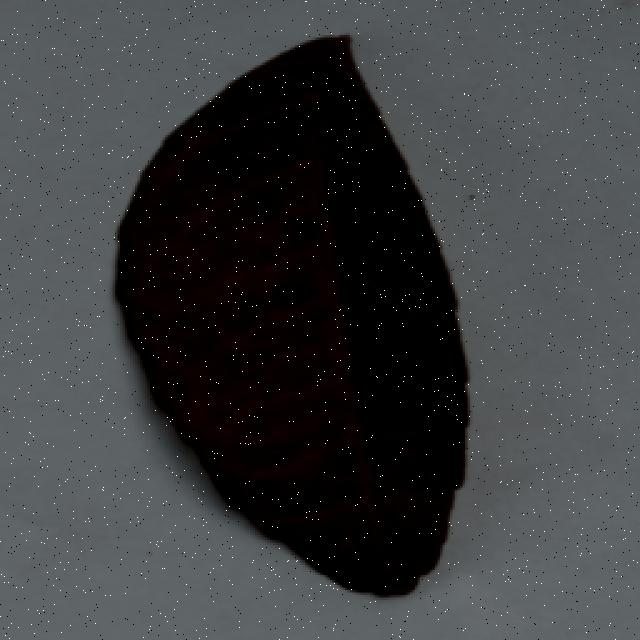blackspot: (92, 22, 520, 606)
